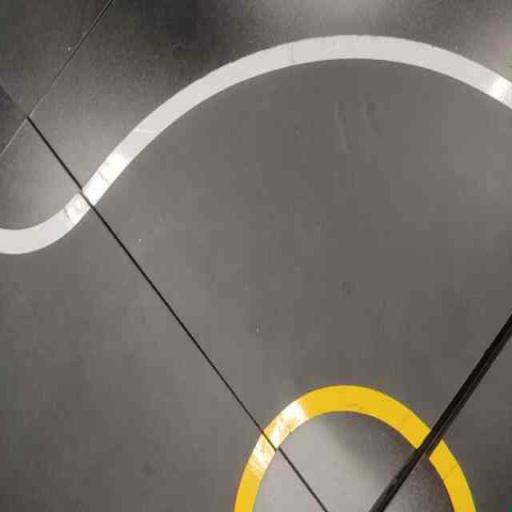left: (78, 12, 511, 450)
